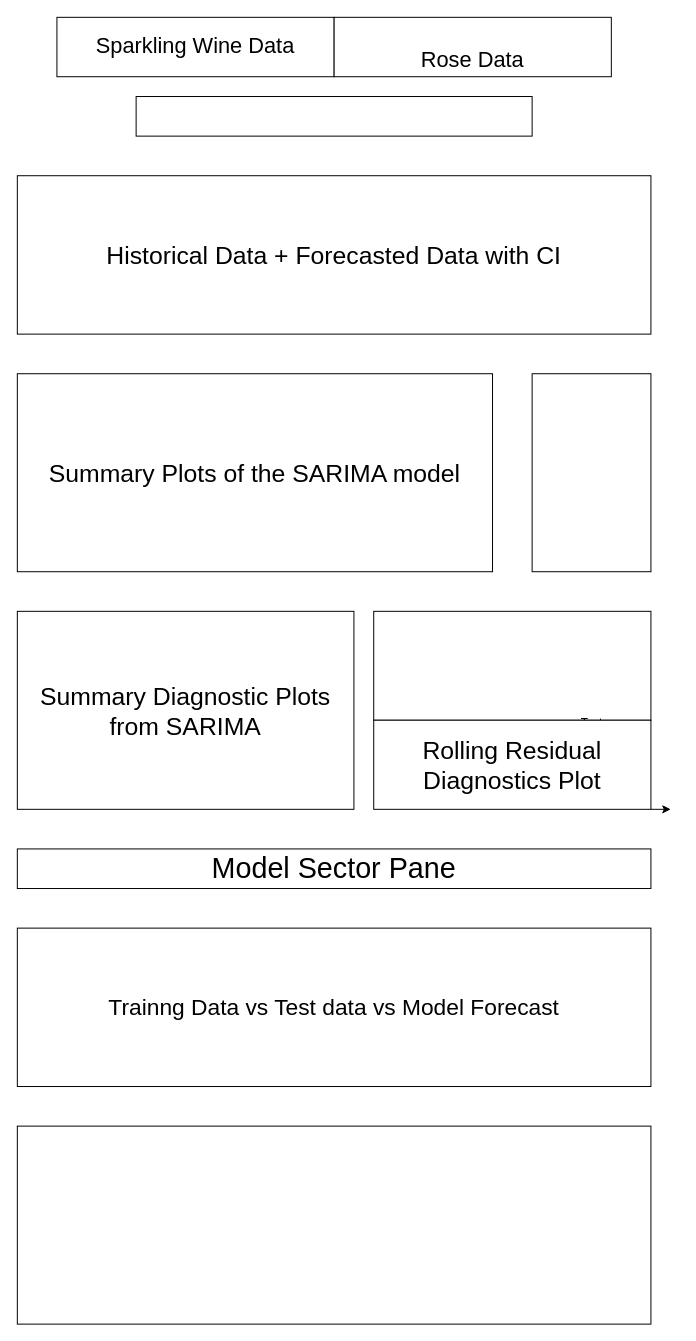
This 696x1341 diagram has some shape labels left out. The centre of each missing label's shape, as x and y in pixels:
About the Model and Result interpreations: the point at 591,472
Forecast Horizon Slider Selector: the point at 333,116
Original Data vs Stationary Data Plot: the point at 333,1224
Residual Over Time Plot: the point at 512,665
